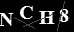8: (58, 8, 69, 23)
C: (18, 5, 35, 20)
H: (38, 10, 56, 25)
N: (1, 11, 13, 27)
